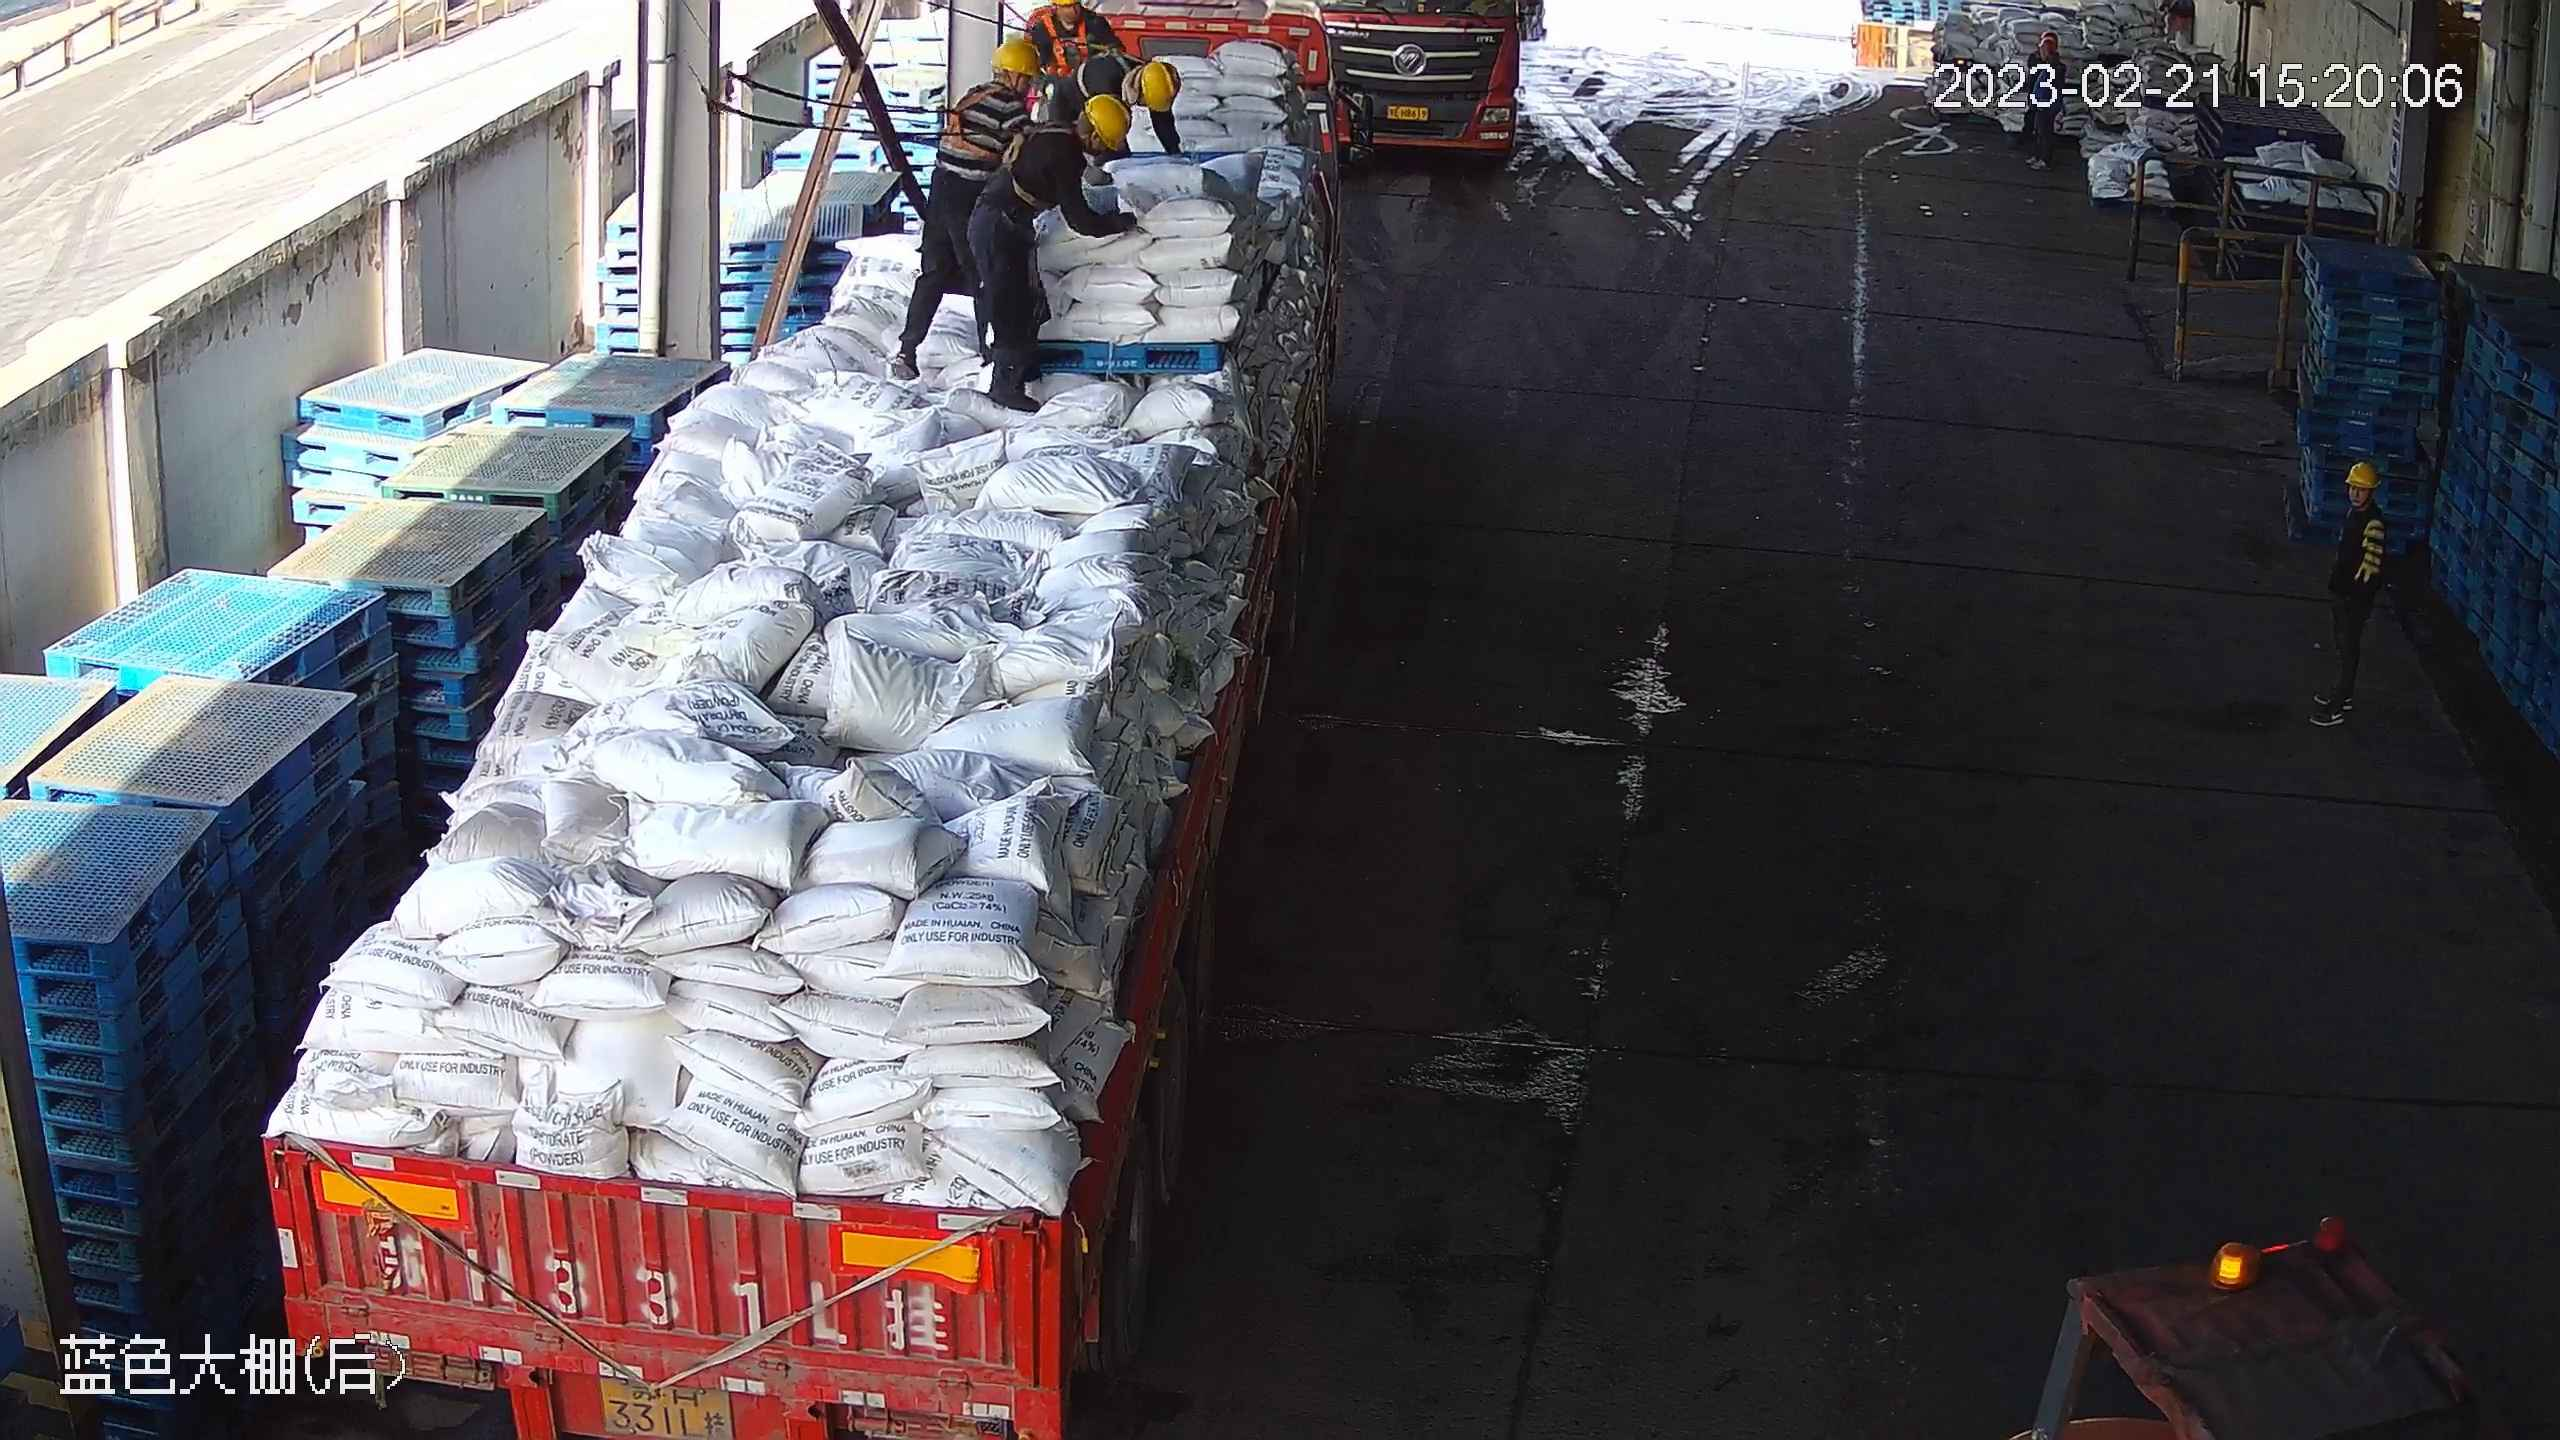belt: (1003, 116, 1068, 205), (943, 85, 997, 155), (1041, 16, 1098, 69), (1080, 56, 1142, 101)
head: (1031, 89, 1126, 204), (944, 42, 1041, 133), (1090, 49, 1185, 118), (2311, 451, 2383, 540)
helmet: (1076, 89, 1126, 152), (1139, 64, 1191, 114), (993, 36, 1039, 77), (2338, 460, 2375, 490)
people: (968, 90, 1133, 423), (893, 30, 1045, 387), (2314, 451, 2392, 743)
truck: (259, 10, 1318, 1440), (1323, 1, 1536, 179)
